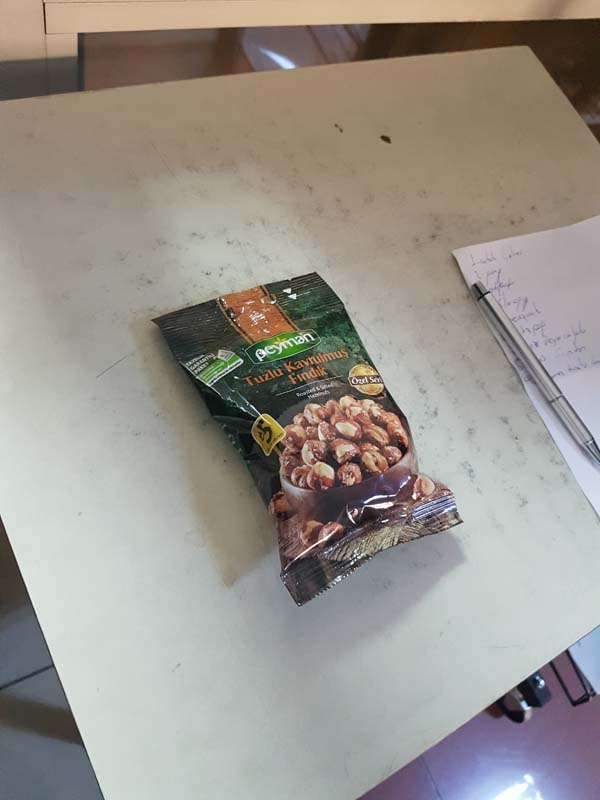peysankavrulmusfindik: (158, 266, 472, 608)
